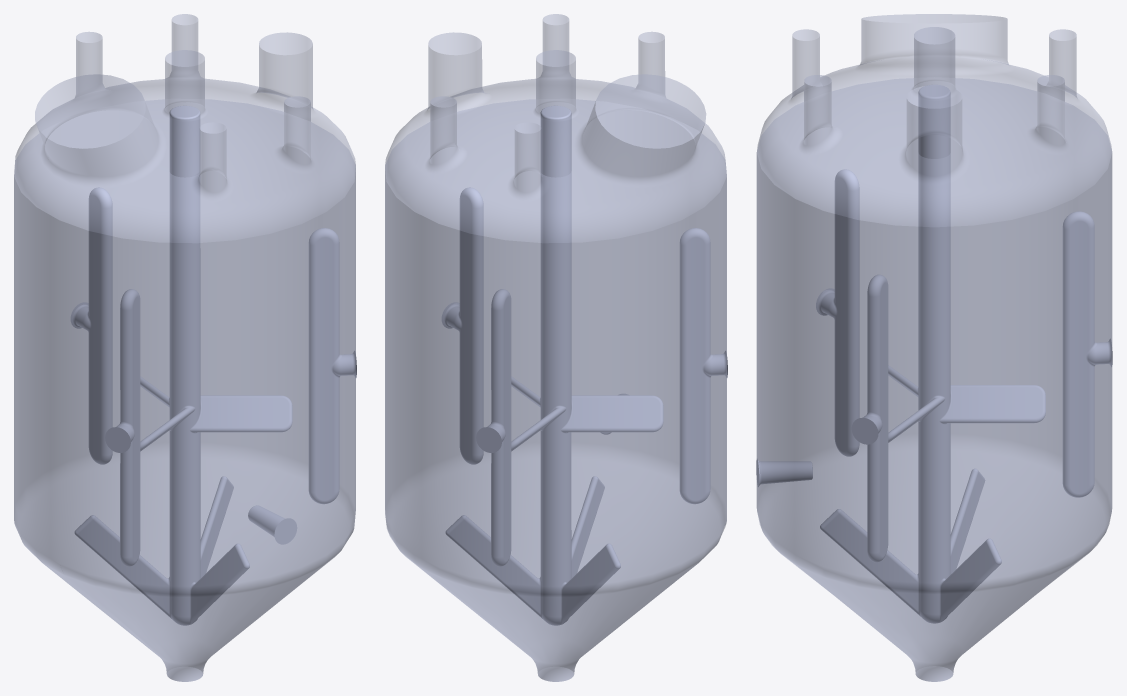
3 views of the same model, side by side, from view 1: azimuth 30°, elevation 25°; view 2: azimuth 150°, elevation 25°; view 3: azimuth 270°, elevation 25° (orthographic). The views are drawn at different scales.
Parts seen in each view (by area): view 1: R-801_Tank-Full, R-801_Tank-Flattop, R-801_Impeller, R-801_Baffles.sldasm-Part-001, R-801_Baffles.sldasm-Part-1, R-801_Baffles.sldasm-Part-002, R-801_Thermocouple; view 2: R-801_Tank-Full, R-801_Tank-Flattop, R-801_Impeller, R-801_Baffles.sldasm-Part-002, R-801_Baffles.sldasm-Part-001, R-801_Baffles.sldasm-Part-1; view 3: R-801_Tank-Full, R-801_Tank-Flattop, R-801_Impeller, R-801_Baffles.sldasm-Part-1, R-801_Baffles.sldasm-Part-002, R-801_Baffles.sldasm-Part-001, R-801_Thermocouple.
Boxes of the visible parts, x1,y1,x2,y2 form: R-801_Tank-Full: (14,14,355,681); R-801_Tank-Flattop: (14,99,355,681); R-801_Impeller: (74,105,292,625); R-801_Baffles.sldasm-Part-001: (308,228,356,504); R-801_Baffles.sldasm-Part-1: (71,187,112,464); R-801_Baffles.sldasm-Part-002: (105,289,140,566); R-801_Thermocouple: (248,505,297,544); R-801_Tank-Full: (385,14,726,681); R-801_Tank-Flattop: (385,99,726,681); R-801_Impeller: (445,105,663,625); R-801_Baffles.sldasm-Part-002: (679,228,727,504); R-801_Baffles.sldasm-Part-001: (442,187,483,464); R-801_Baffles.sldasm-Part-1: (476,289,511,566); R-801_Tank-Full: (757,14,1112,681); R-801_Tank-Flattop: (757,78,1111,681); R-801_Impeller: (820,84,1045,623); R-801_Baffles.sldasm-Part-1: (1062,211,1112,497); R-801_Baffles.sldasm-Part-002: (816,169,859,456); R-801_Baffles.sldasm-Part-001: (851,274,888,562); R-801_Thermocouple: (756,458,812,487).
Bounding box in the file's own units: 0.972 × 1.93 × 0.9748.
